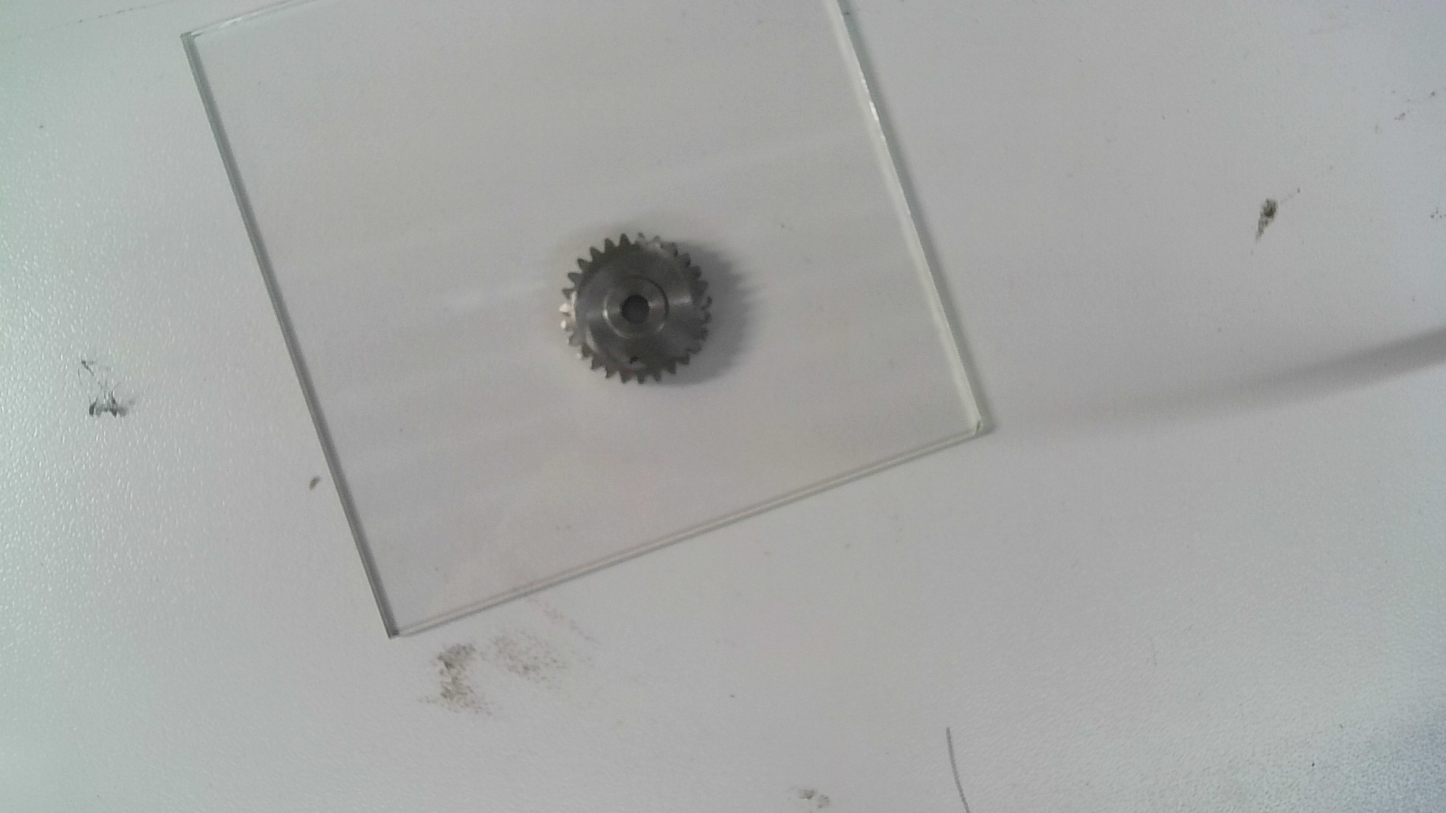gear: (559, 229, 714, 391)
